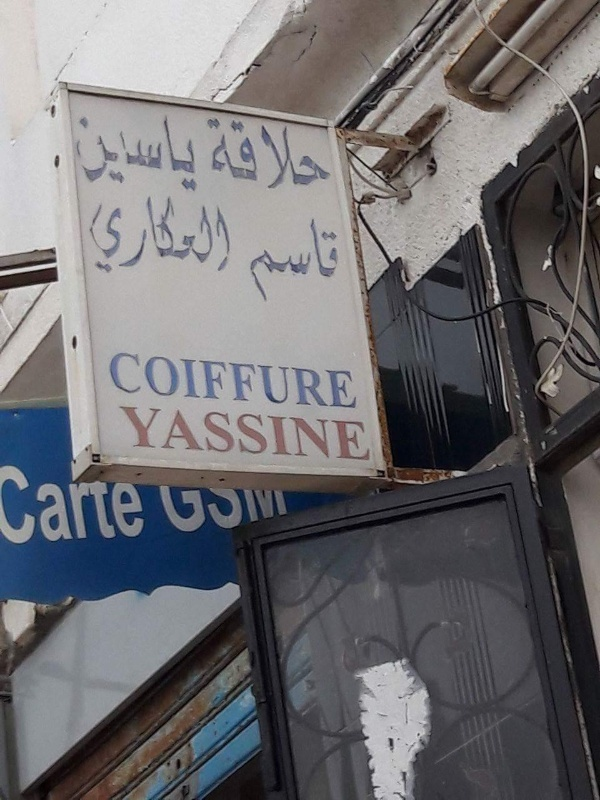text: (17, 457, 32, 551), (33, 457, 48, 551), (49, 457, 64, 551), (65, 457, 80, 551), (81, 457, 96, 551), (97, 457, 112, 551), (113, 457, 128, 551), (129, 457, 144, 551), (257, 219, 272, 307), (273, 219, 288, 307), (289, 219, 304, 307), (305, 219, 320, 307), (321, 219, 336, 307), (2, 457, 16, 551), (209, 111, 224, 198), (225, 111, 240, 198), (241, 111, 256, 198), (257, 111, 272, 198), (273, 111, 288, 198), (289, 111, 304, 198), (305, 111, 320, 198), (81, 108, 96, 193), (97, 108, 112, 193), (113, 108, 128, 193), (129, 108, 144, 193), (145, 108, 160, 193), (161, 108, 176, 193), (177, 108, 192, 193), (97, 193, 112, 276), (113, 193, 128, 276), (129, 193, 144, 276), (145, 193, 160, 276), (161, 193, 176, 276), (177, 193, 192, 276), (193, 193, 208, 276), (209, 193, 224, 276), (321, 111, 335, 198), (161, 469, 176, 538), (177, 469, 192, 538), (193, 469, 208, 538), (209, 469, 224, 538), (225, 469, 240, 538), (241, 469, 256, 538), (257, 469, 272, 538), (273, 469, 288, 538), (113, 349, 128, 410), (129, 349, 144, 410), (145, 349, 160, 410), (161, 349, 176, 410), (177, 349, 192, 410), (193, 349, 208, 410), (209, 349, 224, 410), (225, 349, 240, 410), (241, 349, 256, 410), (257, 349, 272, 410), (273, 349, 288, 410), (289, 349, 304, 410), (305, 349, 320, 410), (321, 349, 336, 410), (337, 349, 352, 410), (129, 406, 144, 465), (145, 406, 160, 465), (161, 406, 176, 465), (177, 406, 192, 465), (193, 406, 208, 465), (209, 406, 224, 465), (225, 406, 240, 465), (241, 406, 256, 465), (257, 406, 272, 465), (273, 406, 288, 465), (289, 406, 304, 465), (305, 406, 320, 465), (321, 406, 336, 465), (337, 406, 352, 465), (353, 406, 368, 465), (246, 219, 256, 307), (337, 219, 347, 307), (193, 108, 202, 193), (87, 193, 96, 276), (225, 193, 234, 276), (353, 349, 365, 410), (145, 457, 152, 551), (117, 406, 128, 465), (74, 108, 80, 193), (105, 349, 112, 410), (204, 111, 208, 198), (369, 406, 373, 465), (157, 469, 160, 538), (289, 469, 292, 538)
